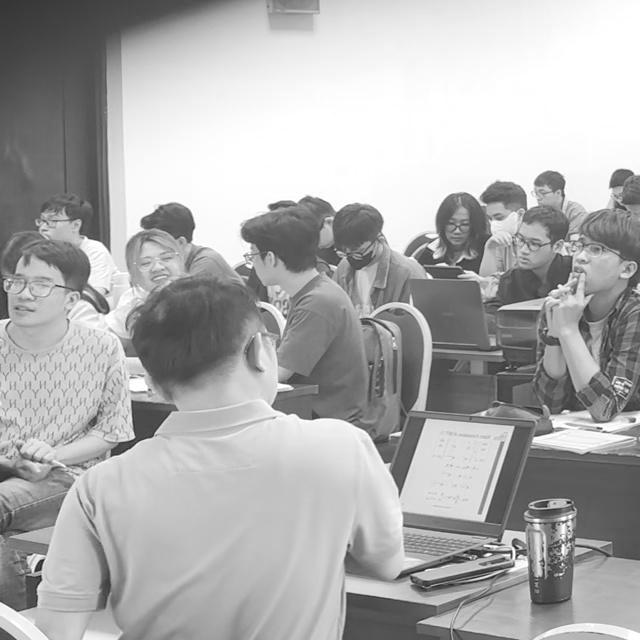Looking away: (7, 259, 65, 325), (132, 237, 179, 289), (332, 227, 378, 267), (447, 208, 472, 245), (532, 176, 562, 203)
Looking forward: (569, 235, 617, 292), (32, 206, 77, 241), (517, 225, 552, 269)
